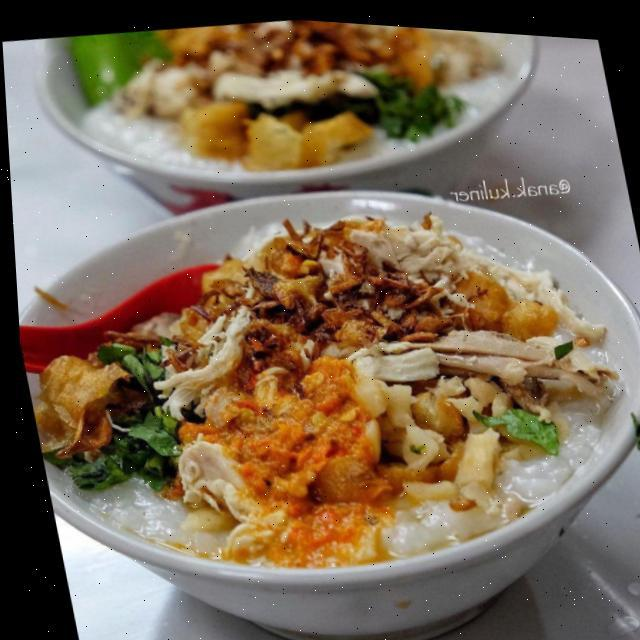bubur ayam: (10, 161, 640, 628), (66, 4, 521, 207)
mangkuk: (8, 128, 640, 640), (24, 2, 580, 260)
